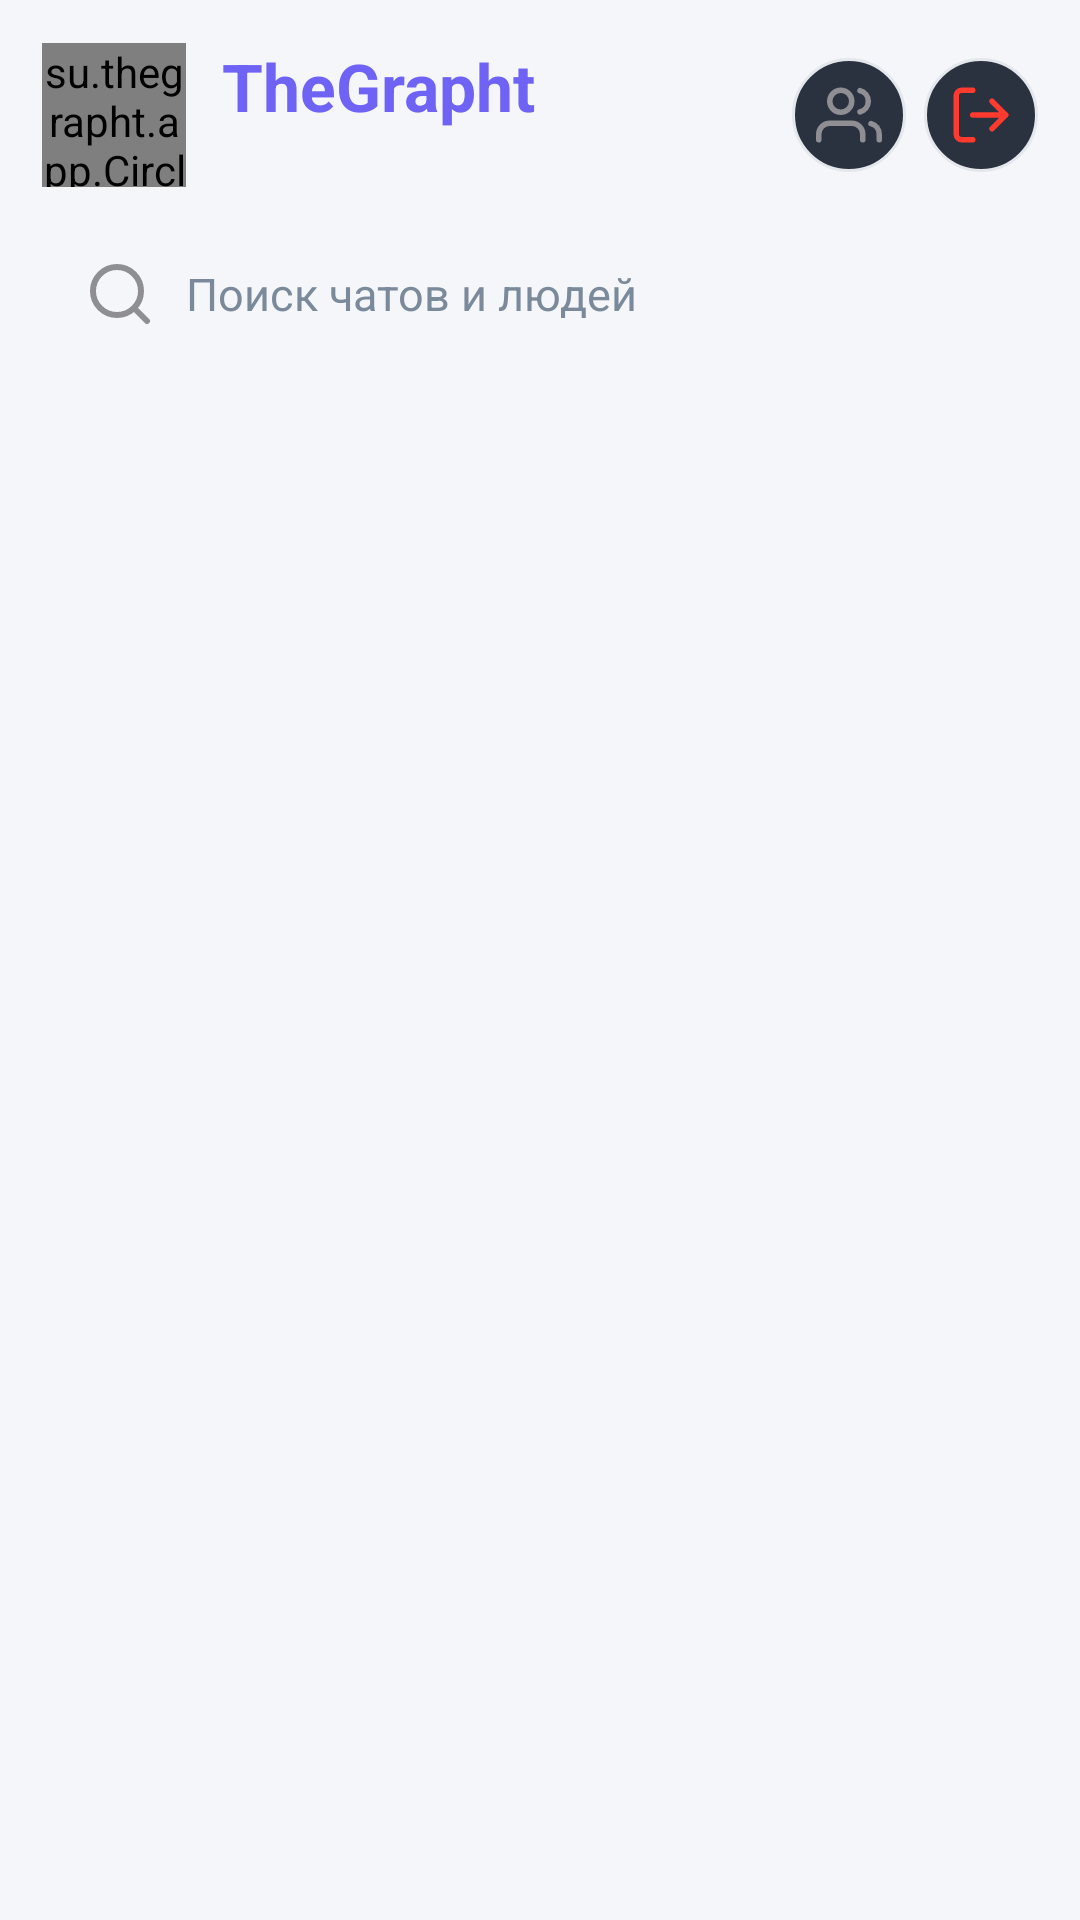

Screen size 1080x1920. Icon name, then its box in pixels as (x1, y1, x2, y2):
Создать группу: (795, 61, 903, 169)
